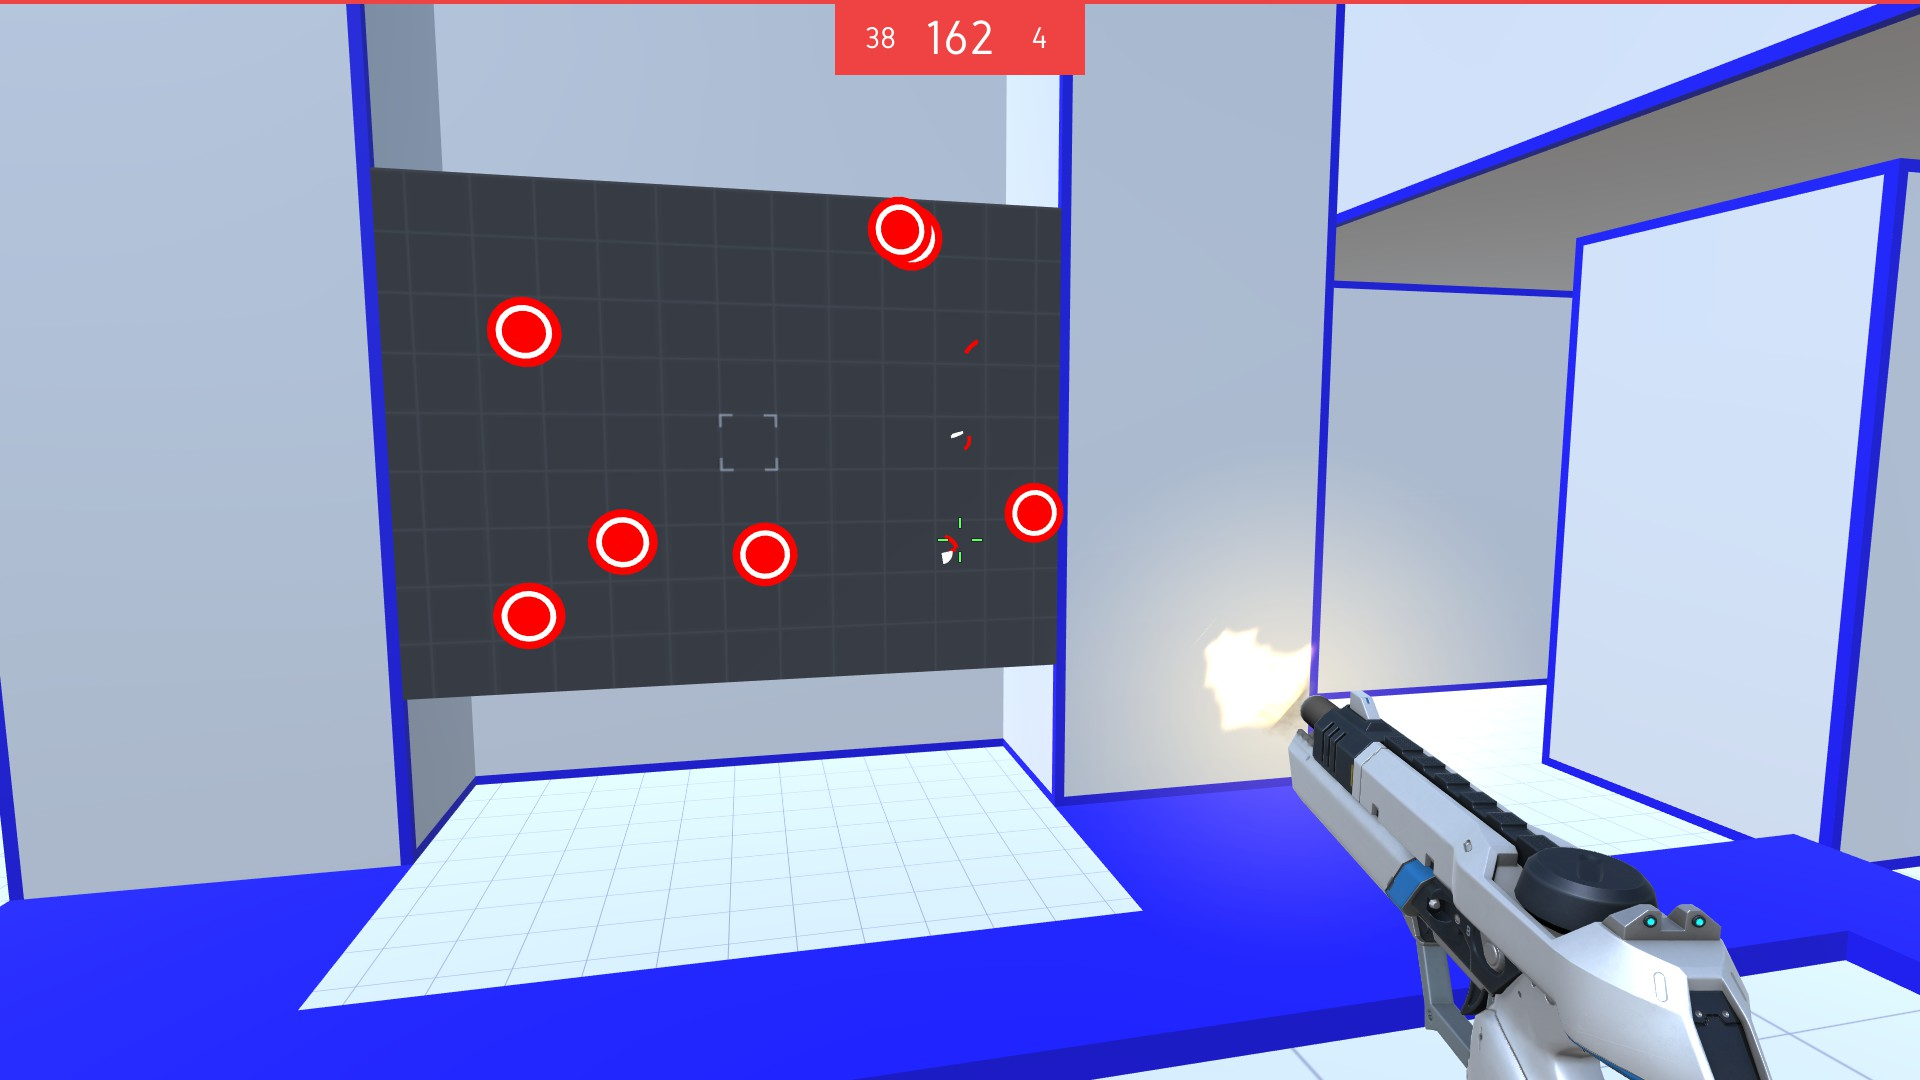target: (480, 295, 564, 371), (491, 582, 568, 655), (731, 520, 799, 589), (588, 512, 661, 578), (1000, 479, 1065, 547), (866, 194, 924, 260)
